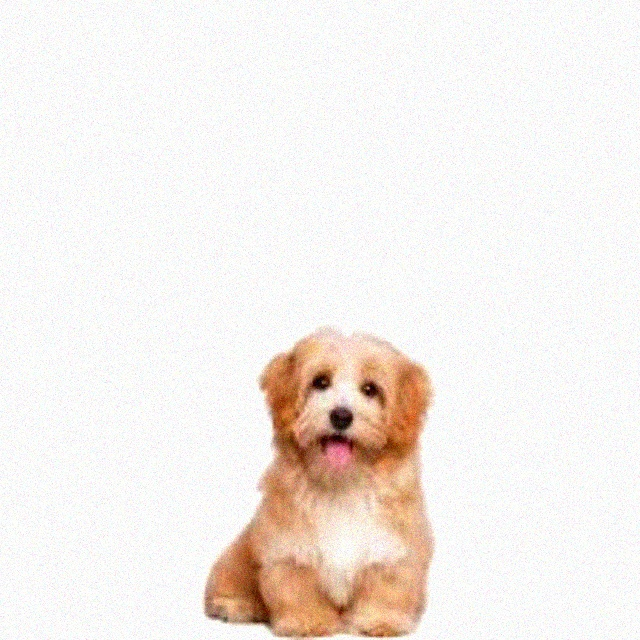dog: (186, 290, 470, 640)
